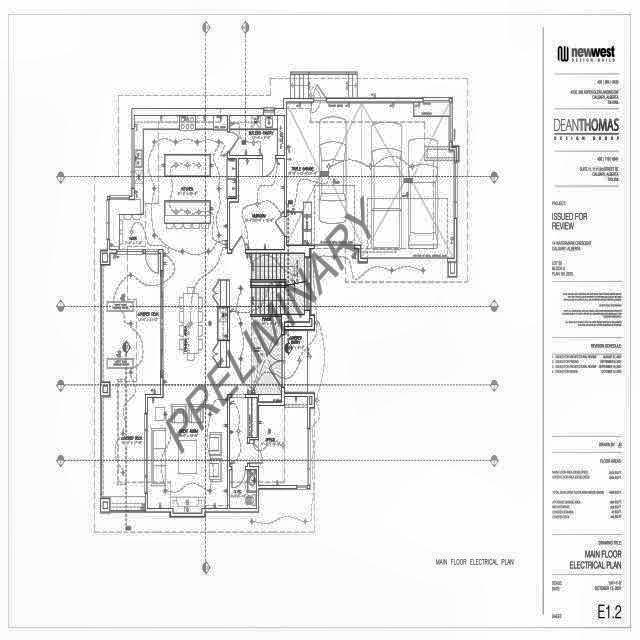room: (287, 102, 454, 259), (250, 397, 308, 485), (230, 159, 284, 250), (230, 116, 284, 155), (230, 470, 256, 509)
